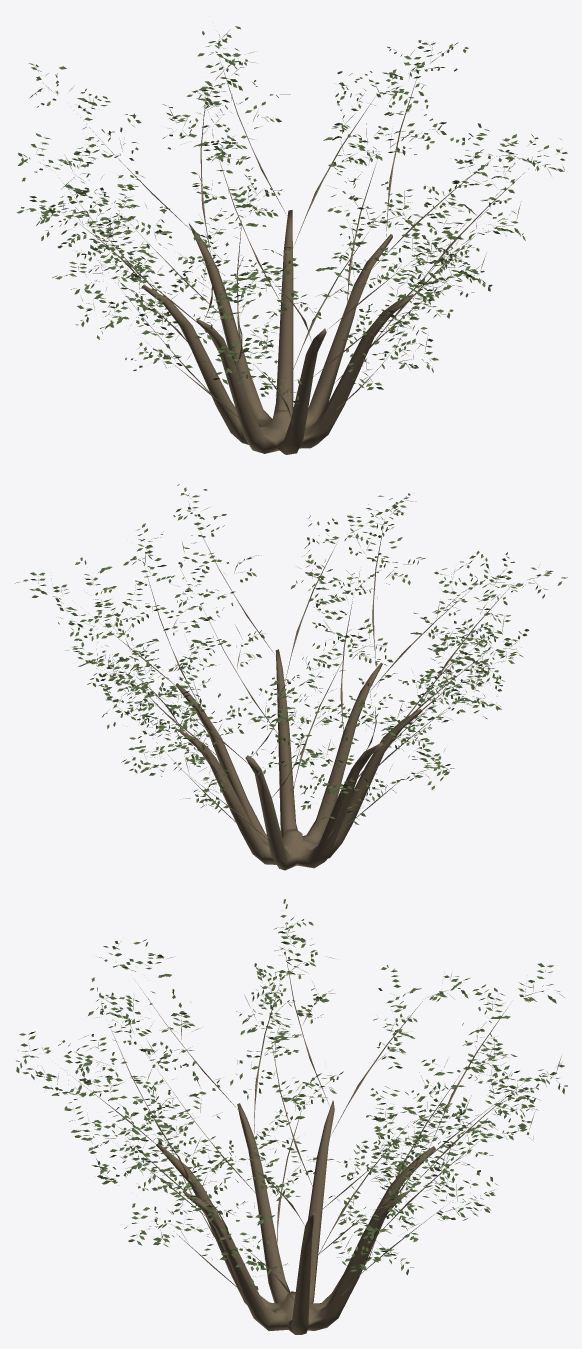
File: Lentisque_1_Niveau1.fbx
3 renders of one model, top to bottom at view 1: azimuth 30°, elevation 25°; view 2: azimuth 150°, elevation 25°; view 3: azimuth 270°, elevation 25°, orthographic. The views are drawn at different scales.
Parts seen in each view (by area): view 1: Lentisque_1_Niveau1; view 2: Lentisque_1_Niveau1; view 3: Lentisque_1_Niveau1.
Boxes of the visible parts, left/top/right/bottom form: Lentisque_1_Niveau1: left=16, top=26, right=567, bottom=454; Lentisque_1_Niveau1: left=15, top=484, right=567, bottom=870; Lentisque_1_Niveau1: left=16, top=899, right=567, bottom=1334.
Bounding box in the file's own units: 261 × 159 × 254.
